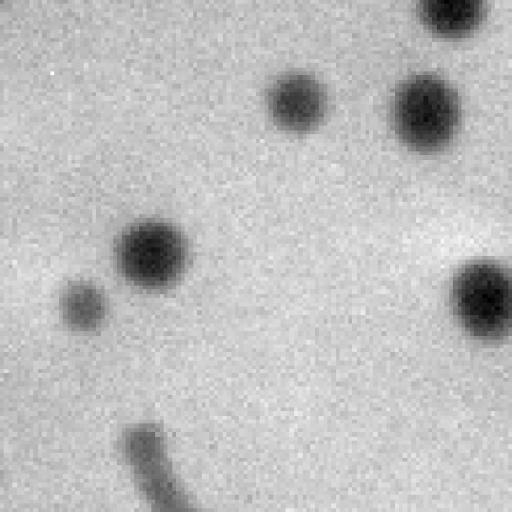Nanoparticles: (385, 74, 466, 155), (116, 214, 192, 298), (449, 254, 512, 343), (264, 67, 331, 134), (411, 0, 491, 41), (61, 275, 111, 338), (116, 420, 175, 467), (132, 462, 184, 506), (153, 495, 201, 512)
